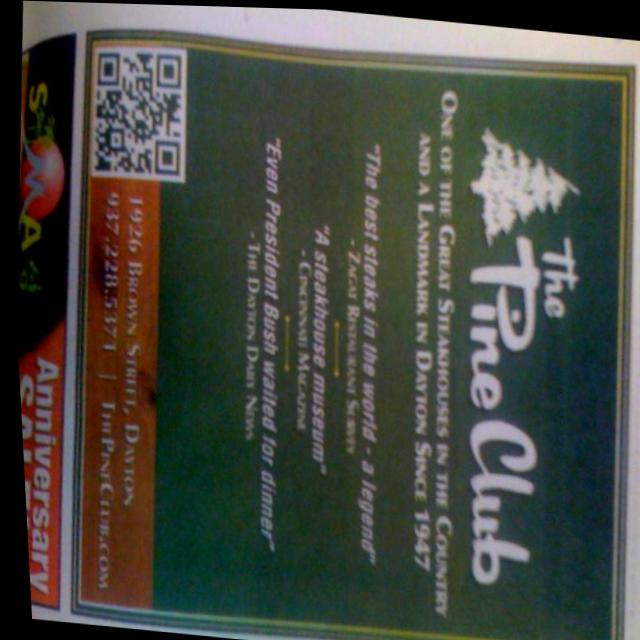qrcode: (87, 46, 187, 180)
